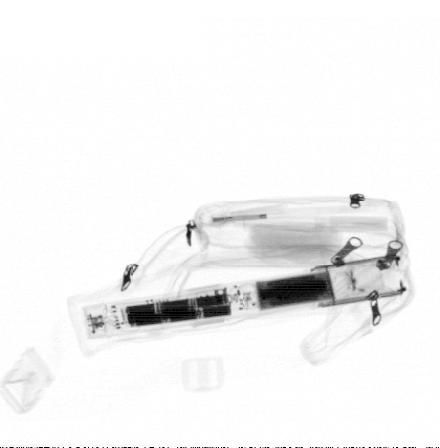Baton: (80, 252, 410, 340)
